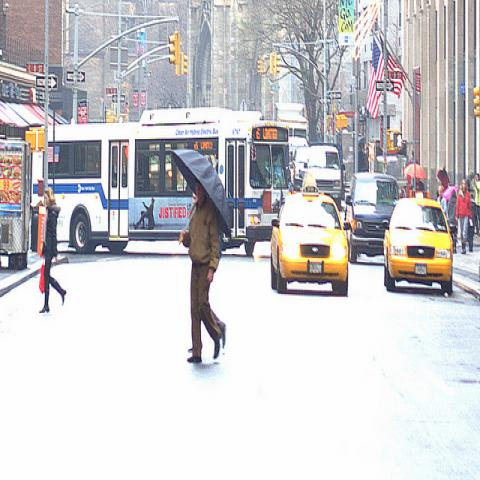bus: (30, 104, 291, 255)
car: (270, 185, 350, 295), (384, 198, 453, 294), (346, 175, 400, 263), (375, 154, 407, 198), (293, 146, 310, 186), (289, 136, 309, 160)
truck: (301, 143, 343, 208), (289, 136, 309, 162)
